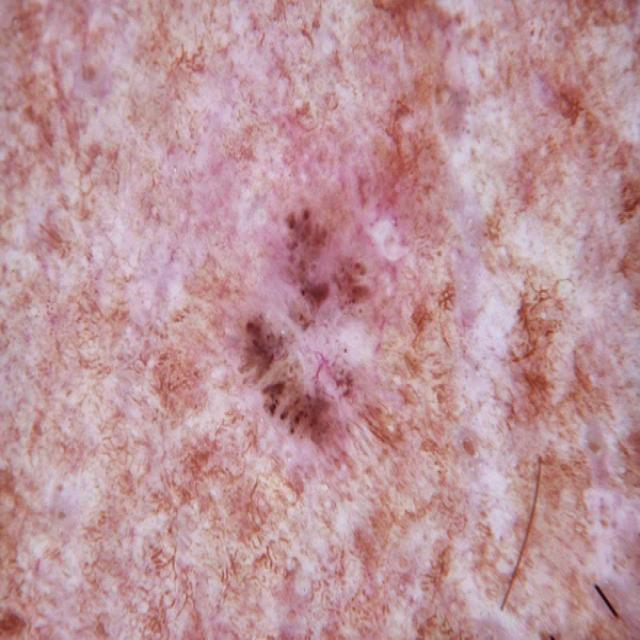Basal-Cell-Carcinoma-BCC-: (136, 69, 603, 612)
